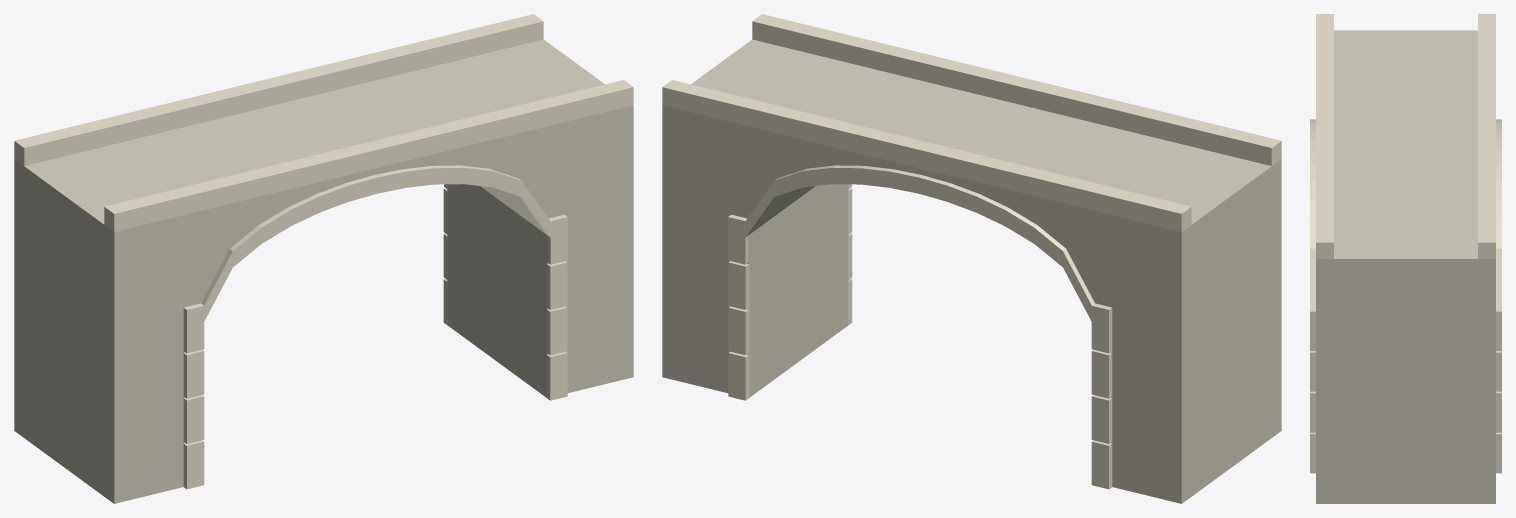
The model's file is stone-bridge.glb.
3 views of the same model, side by side, from view 1: azimuth 30°, elevation 25°; view 2: azimuth 150°, elevation 25°; view 3: azimuth 270°, elevation 25° (orthographic). The views are drawn at different scales.
Parts seen in each view (by area): view 1: stone-bridge; view 2: stone-bridge; view 3: stone-bridge.
Boxes of the visible parts, left/top/right/bottom form: stone-bridge: left=14, top=14, right=633, bottom=503; stone-bridge: left=662, top=14, right=1281, bottom=503; stone-bridge: left=1310, top=14, right=1501, bottom=503.
Size of the model in its own units: 6 by 3.2 by 2.13.
